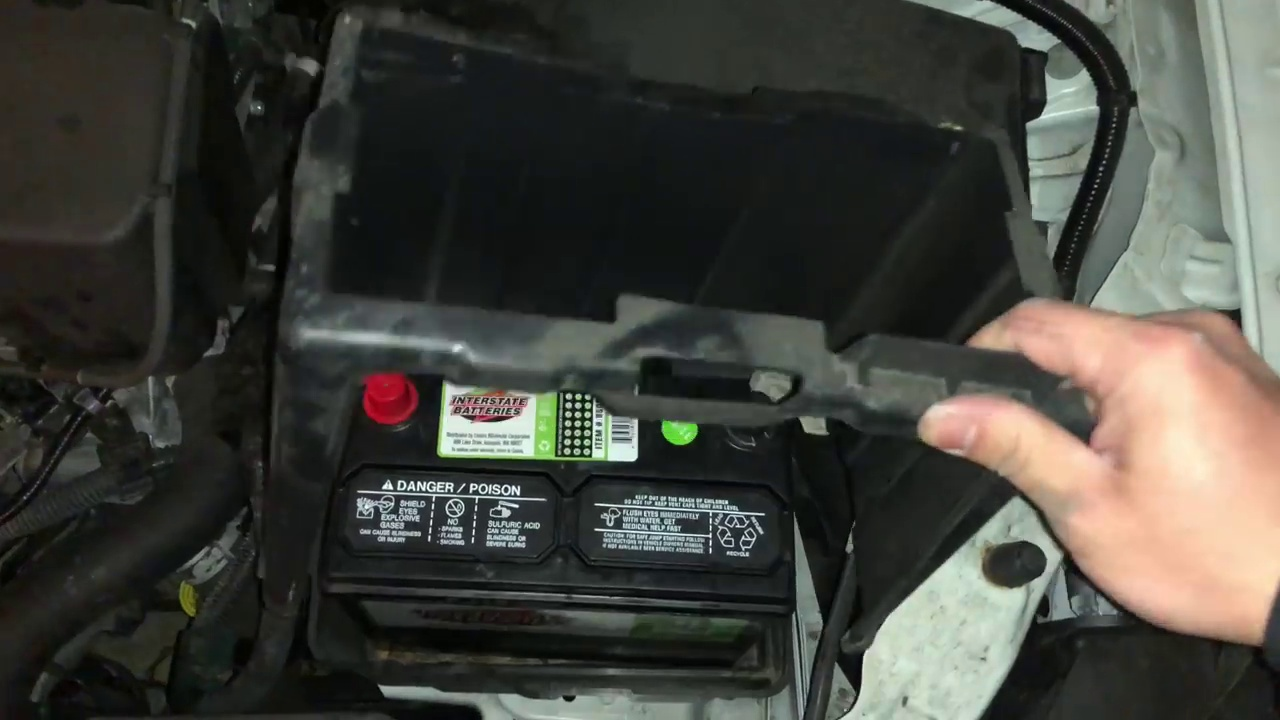battery: (348, 358, 793, 602)
